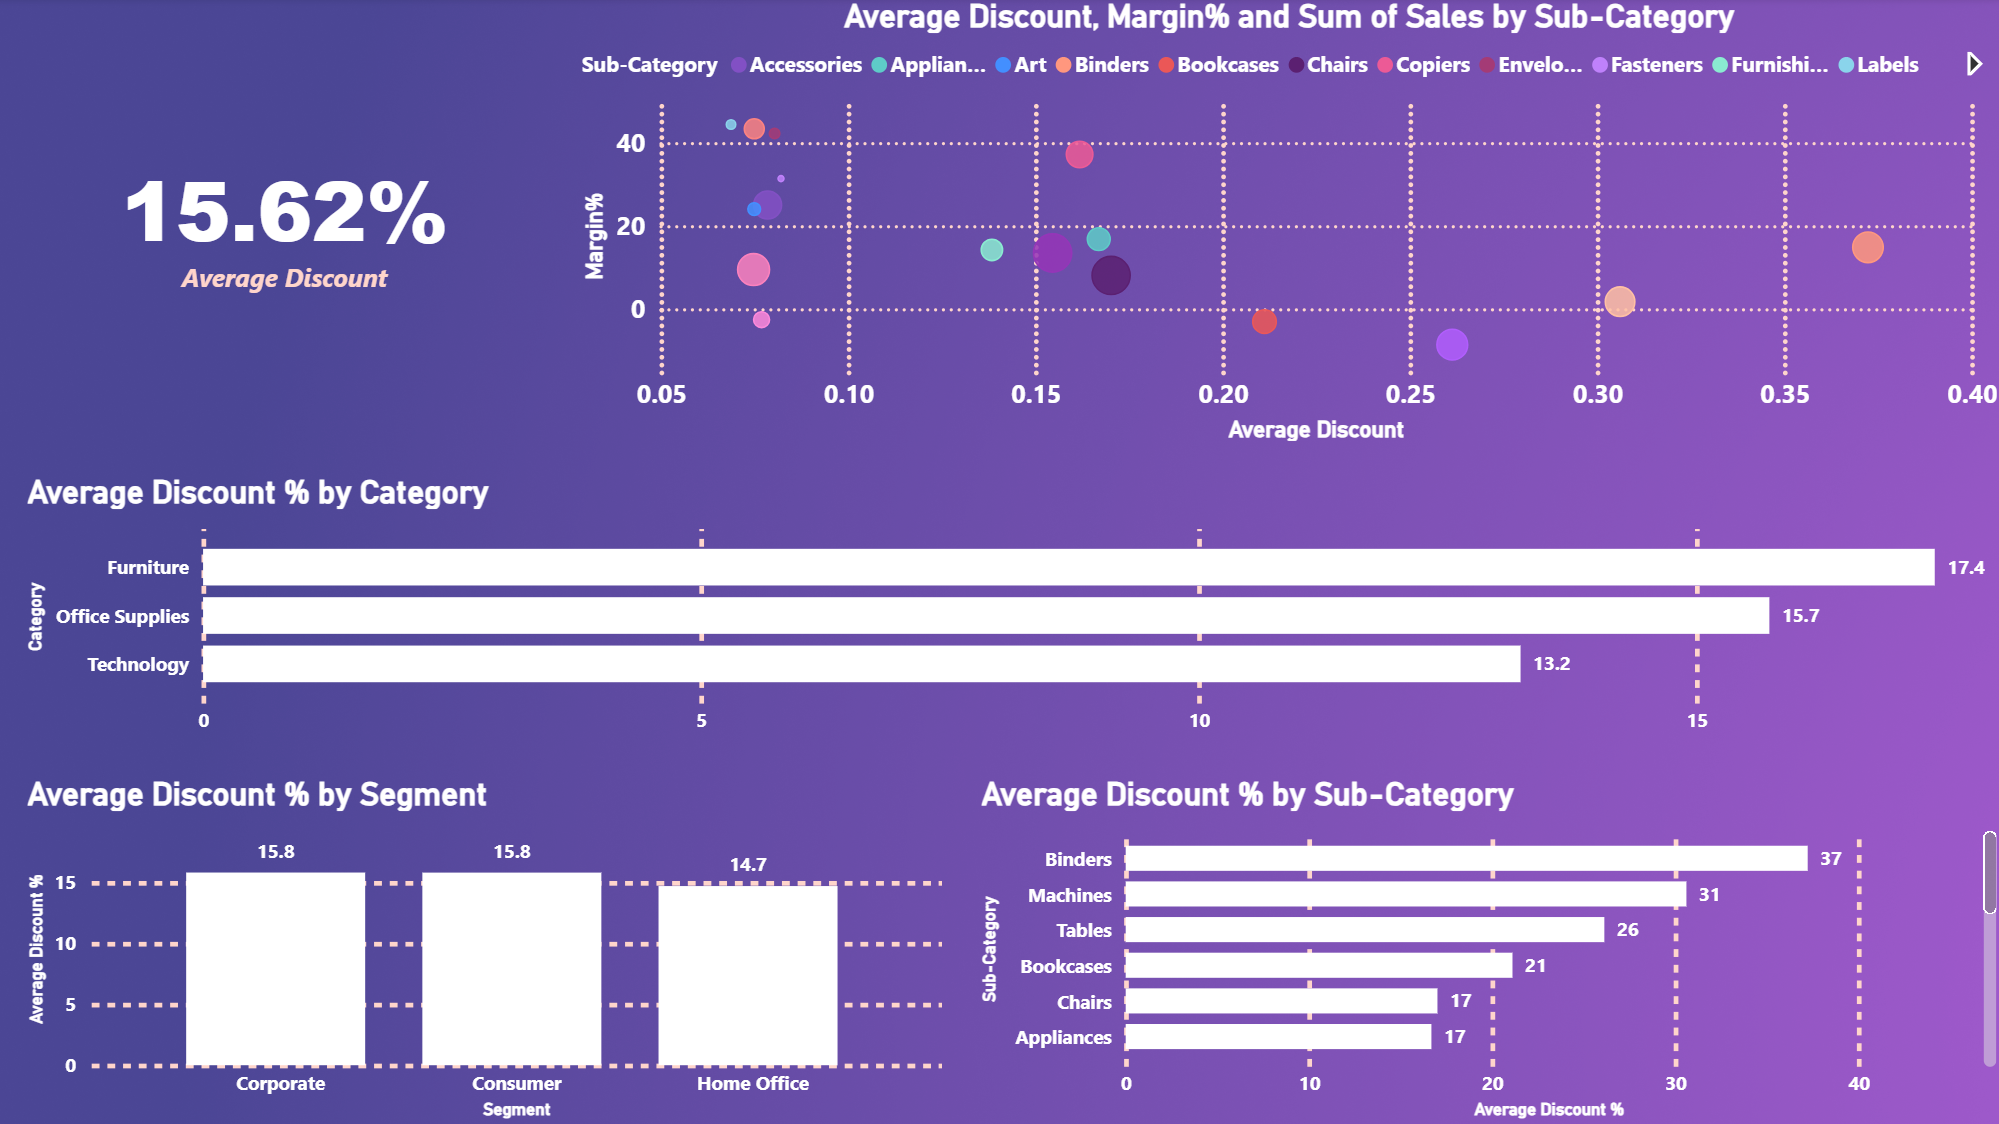

Layout of this report page (visuals, bound fields, positions):
{"tool":"powerbi","page":{"name":"Discount Analysis","canvas":[1280,720],"ordinal":3},"visuals":[{"type":"card","fields":{"Values":["SampleSuperstore.Average Discount"]},"box":[0,0,368,288],"z":0},{"type":"scatterChart","fields":{"X":["SampleSuperstore.Average Discount"],"Y":["SampleSuperstore.Margin%"],"Series":["SampleSuperstore.Sub-Category"],"Size":["Sum(SampleSuperstore.Sales)"]},"box":[368,0,912,288],"z":1000},{"type":"clusteredBarChart","fields":{"Category":["SampleSuperstore.Category"],"Y":["SampleSuperstore.Average Discount %"]},"box":[0,304,1280,176],"z":2000},{"type":"clusteredColumnChart","fields":{"Y":["SampleSuperstore.Average Discount %"],"Category":["SampleSuperstore.Segment"]},"box":[0,496,608,224],"z":3000},{"type":"clusteredBarChart","fields":{"Category":["SampleSuperstore.Sub-Category"],"Y":["SampleSuperstore.Average Discount %"]},"box":[608,496,672,224],"z":4000}]}

Visuals, with their boxes in screenshot pixels (x1, y1, x2, y2), scaled from the page's 1280x720 canvas onto the 1999x1124 screenshot:
card - SampleSuperstore.Average Discount: select_region(0, 0, 575, 450)
scatterChart - SampleSuperstore.Average Discount x SampleSuperstore.Margin%: select_region(575, 0, 1998, 450)
clusteredBarChart - SampleSuperstore.Category x SampleSuperstore.Average Discount %: select_region(0, 475, 1998, 749)
clusteredColumnChart - SampleSuperstore.Average Discount % x SampleSuperstore.Segment: select_region(0, 774, 950, 1123)
clusteredBarChart - SampleSuperstore.Sub-Category x SampleSuperstore.Average Discount %: select_region(950, 774, 1998, 1123)
